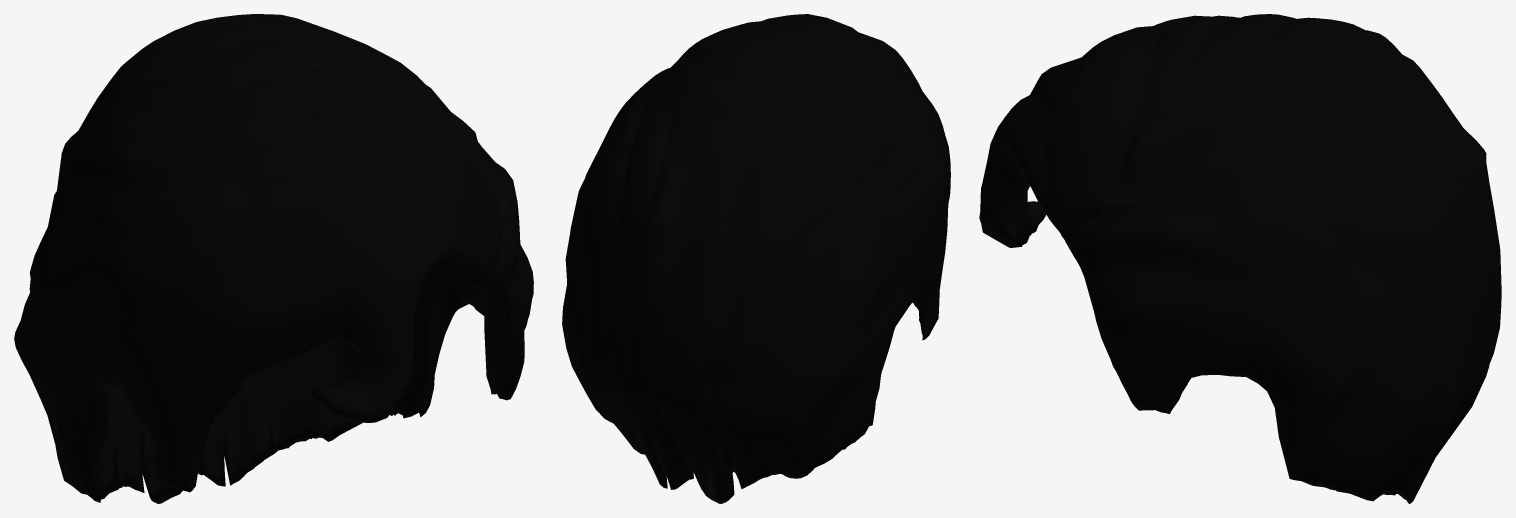
The model's file is mh_culturalibre_hair_14.glb.
3 renders of one model, left to right at view 1: azimuth 30°, elevation 25°; view 2: azimuth 150°, elevation 25°; view 3: azimuth 270°, elevation 25°, orthographic. The views are drawn at different scales.
Visible parts, largest first — view 1: mh_culturalibre_hair_14; view 2: mh_culturalibre_hair_14; view 3: mh_culturalibre_hair_14.
Boxes of the visible parts, left/top/right/bottom form: mh_culturalibre_hair_14: left=14, top=14, right=533, bottom=503; mh_culturalibre_hair_14: left=562, top=14, right=950, bottom=503; mh_culturalibre_hair_14: left=979, top=14, right=1501, bottom=503.
Size of the model in its own units: 0.1802 by 0.2224 by 0.2275.
Materials: 1 (1 with a texture image).
